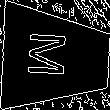M_E: (32, 34, 79, 82)
